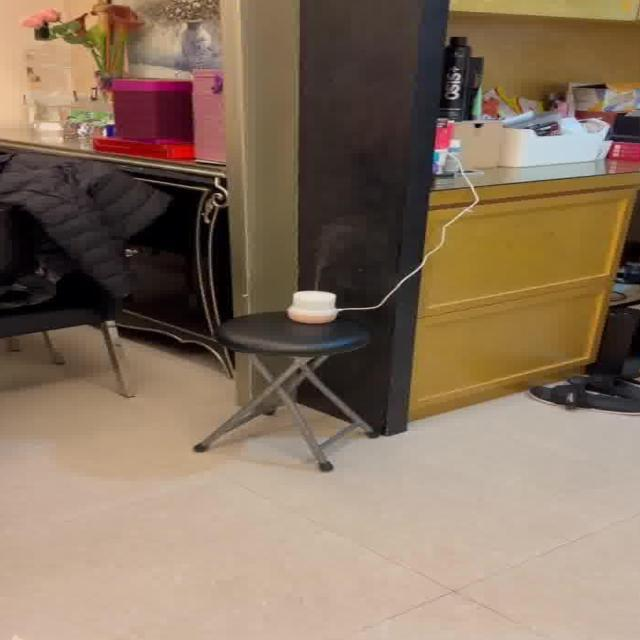fire: (310, 217, 378, 286)
